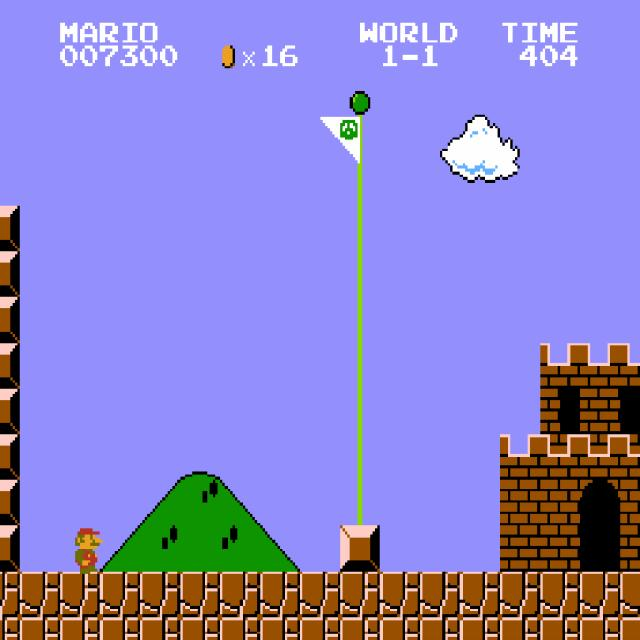brick_block: (620, 526, 640, 571)
goal_pole: (340, 114, 380, 160), (340, 160, 380, 206), (340, 297, 380, 343), (340, 434, 380, 480), (340, 480, 380, 526), (340, 69, 380, 114), (340, 206, 380, 251), (340, 252, 380, 297), (340, 343, 380, 388), (340, 389, 380, 434)
hard_block: (340, 526, 380, 571), (0, 297, 20, 343), (0, 434, 20, 480), (0, 480, 20, 526), (0, 206, 20, 251), (0, 252, 20, 297), (0, 343, 20, 388), (0, 389, 20, 434), (0, 526, 20, 571)
little_mario: (65, 526, 107, 574)
undestructible_block: (20, 572, 60, 617), (60, 572, 100, 617), (100, 572, 140, 617), (140, 572, 180, 617), (180, 572, 220, 617), (220, 572, 260, 617), (260, 572, 300, 617), (300, 572, 340, 617), (340, 572, 380, 617), (380, 572, 420, 617), (420, 572, 460, 617), (460, 572, 500, 617), (500, 572, 540, 617), (540, 572, 580, 617), (580, 572, 620, 617), (20, 617, 60, 640), (60, 617, 100, 640), (100, 617, 140, 640), (140, 617, 180, 640), (180, 617, 220, 640), (220, 617, 260, 640), (260, 617, 300, 640), (300, 617, 340, 640), (340, 617, 380, 640), (380, 617, 420, 640), (420, 617, 460, 640), (460, 617, 500, 640), (500, 617, 540, 640), (540, 617, 580, 640), (580, 617, 620, 640), (0, 572, 20, 617), (620, 572, 640, 617), (0, 617, 20, 640), (620, 617, 640, 640)
